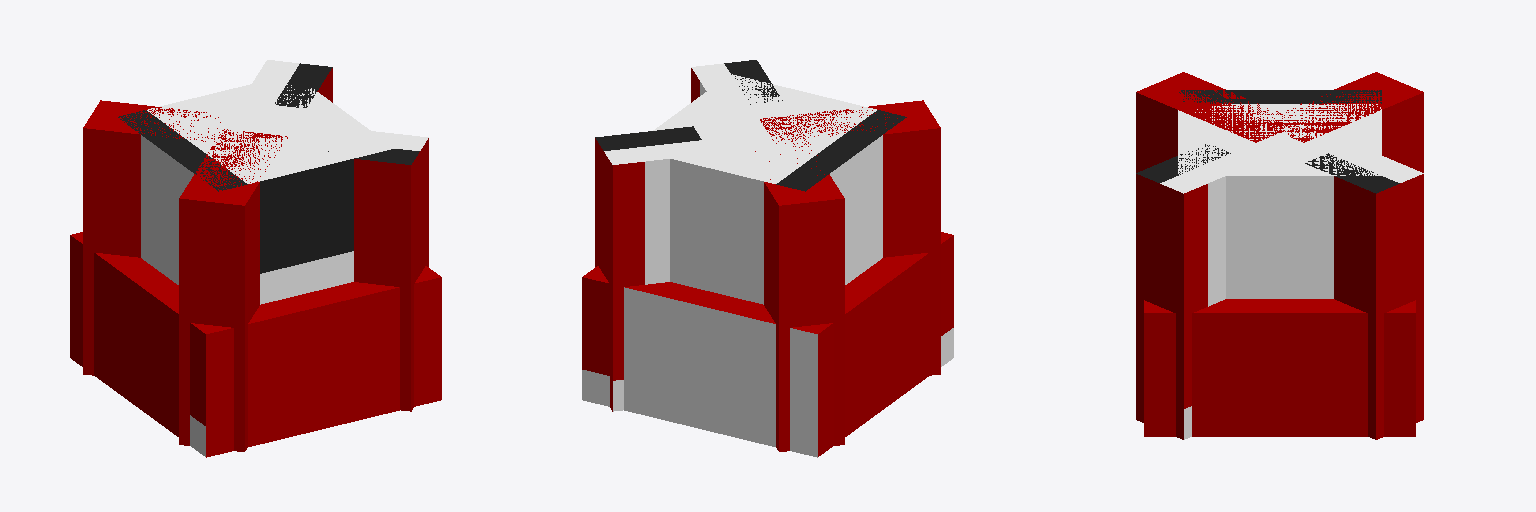
The picture shows the model from 3 angles: view 1: azimuth 30°, elevation 25°; view 2: azimuth 150°, elevation 25°; view 3: azimuth 270°, elevation 25°; orthographic projection.
Parts seen in each view (by area): view 1: group_17, Component_45, group_18; view 2: group_17, Component_45, group_18; view 3: Component_45, group_17, group_18.
Boxes of the visible parts, x1,y1,x2,y2 form: group_17: [70, 232, 441, 457]; Component_45: [83, 60, 428, 451]; group_18: [118, 78, 394, 304]; group_17: [582, 232, 953, 457]; Component_45: [595, 60, 940, 451]; group_18: [641, 74, 906, 304]; Component_45: [1136, 72, 1423, 439]; group_17: [1144, 299, 1415, 436]; group_18: [1178, 90, 1381, 298].
Bounding box in the file's own units: 53.45 × 50.39 × 53.45.
Materials: 1 (1 with a texture image).